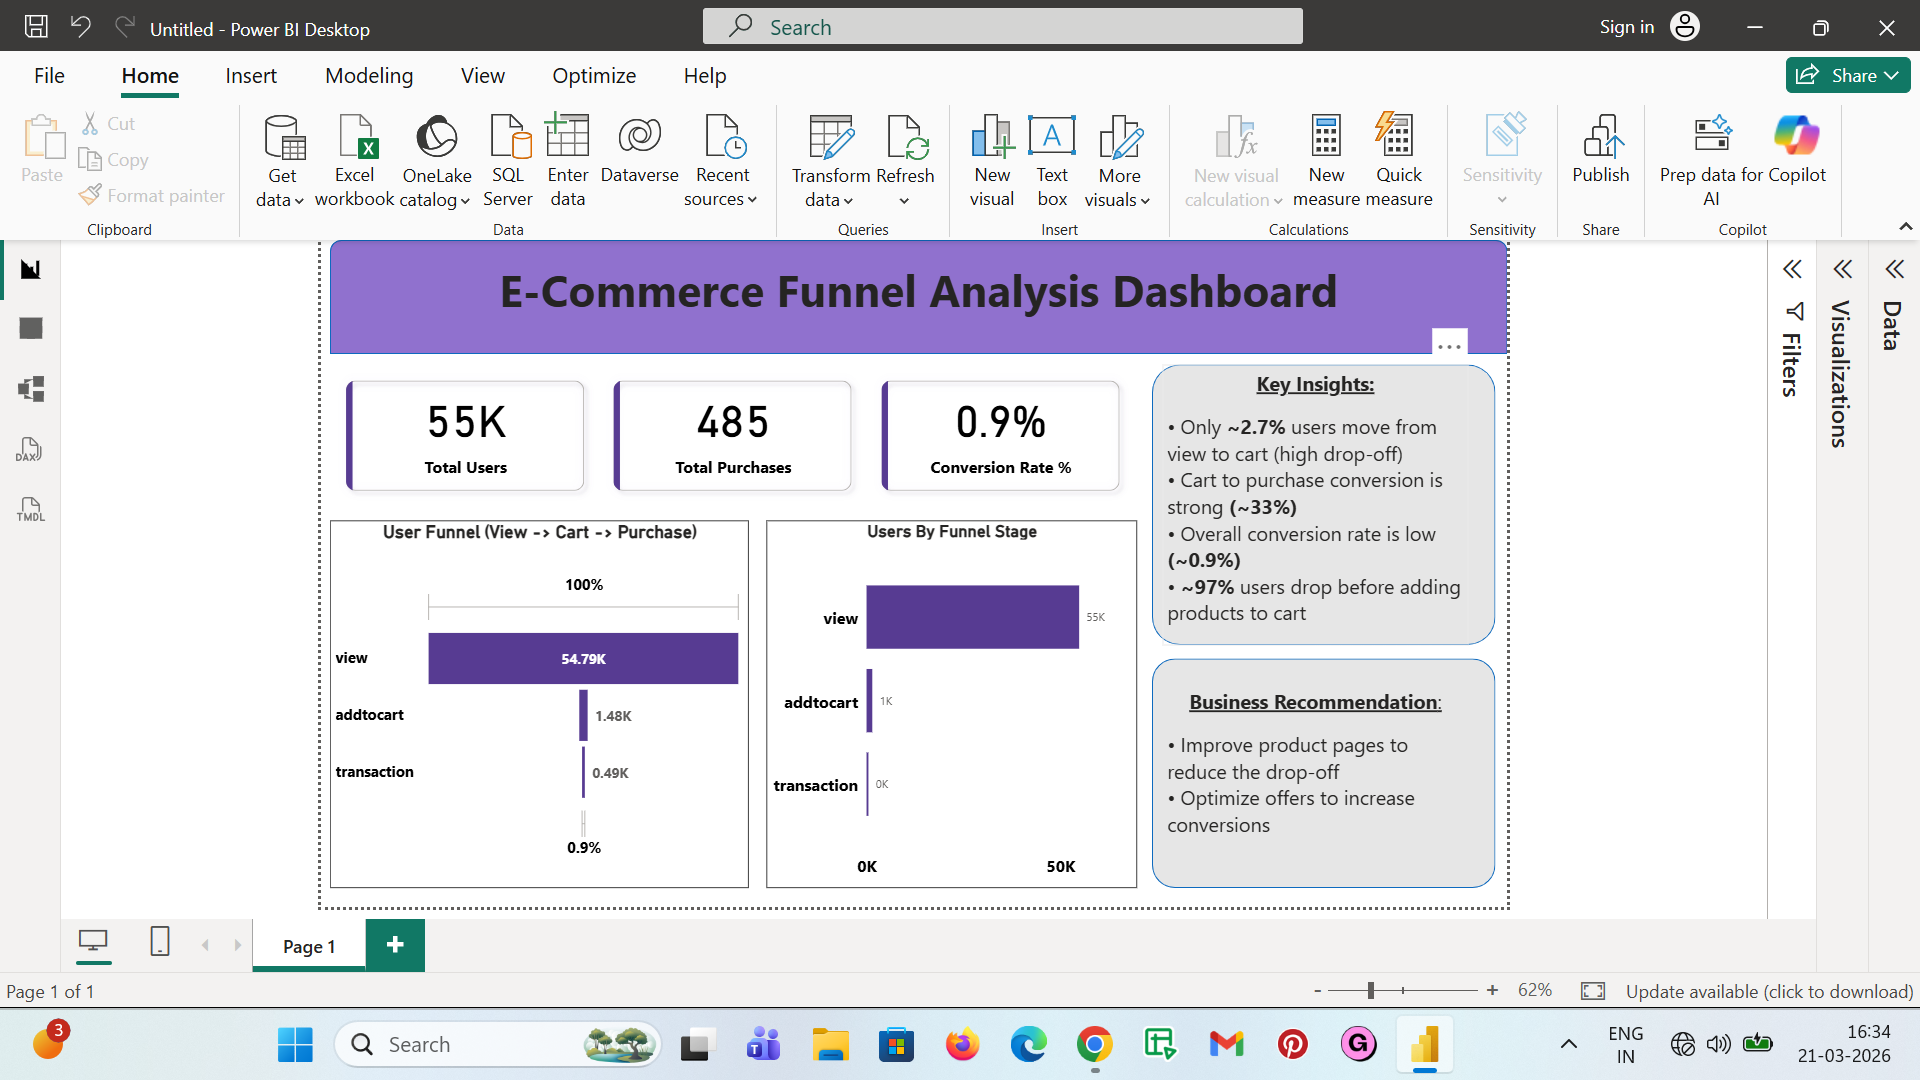

Layout of this report page (visuals, bound fields, positions):
{"tool":"powerbi","page":{"name":"Page 1","canvas":[1280,720],"ordinal":0},"visuals":[{"type":"shape","box":[897.1,134.4,370.8,302.8],"z":0},{"type":"shape","box":[9.7,0,1271.1,123.1],"z":1000},{"type":"textbox","box":[9.7,14.6,1271.1,153.8],"z":2000},{"type":"cardVisual","fields":{"Data":["events_cleaned.Total Users","events_cleaned.Purchase Users","events_cleaned.Conversion Rate"]},"box":[9.7,134.4,871.1,153.8],"z":3000},{"type":"funnel","title":"User Funnel (View -> Cart -> Purchase)","fields":{"Category":["events_cleaned.event"],"Y":["Count(events_cleaned.user_id)"]},"box":[9.7,302.8,451.8,396.7],"z":4000},{"type":"barChart","title":"Users By Funnel Stage","fields":{"Category":["events_cleaned.event"],"Y":["Count(events_cleaned.user_id)"]},"box":[480.9,302.8,399.9,396.7],"z":5000},{"type":"textbox","box":[908.4,134.4,330.3,302.8],"z":6000},{"type":"shape","box":[897.1,451.8,370.8,247.7],"z":6001},{"type":"textbox","box":[908.4,477.7,330.3,205.6],"z":6002}]}

Visuals, with their boxes on the page's 1280x720 design canvas (x1, y1, x2, y2). These are canvas units, not pixel positions in the 1920x1080 screenshot, which may show the page scaled, cropped or inside an application window:
shape: BBox(897, 134, 1268, 437)
shape: BBox(10, 0, 1281, 123)
textbox: BBox(10, 15, 1281, 168)
cardVisual - events_cleaned.Total Users x events_cleaned.Purchase Users: BBox(10, 134, 881, 288)
"User Funnel (View -> Cart -> Purchase)" funnel: BBox(10, 303, 462, 700)
"Users By Funnel Stage" barChart: BBox(481, 303, 881, 700)
textbox: BBox(908, 134, 1239, 437)
shape: BBox(897, 452, 1268, 700)
textbox: BBox(908, 478, 1239, 683)
